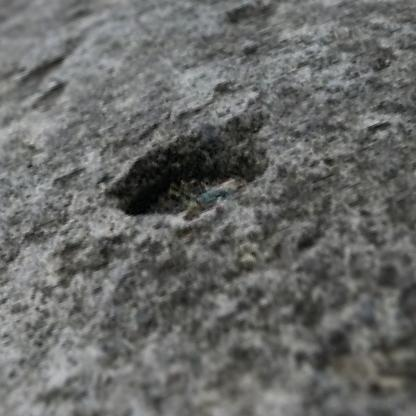pothole: (92, 97, 288, 242)
